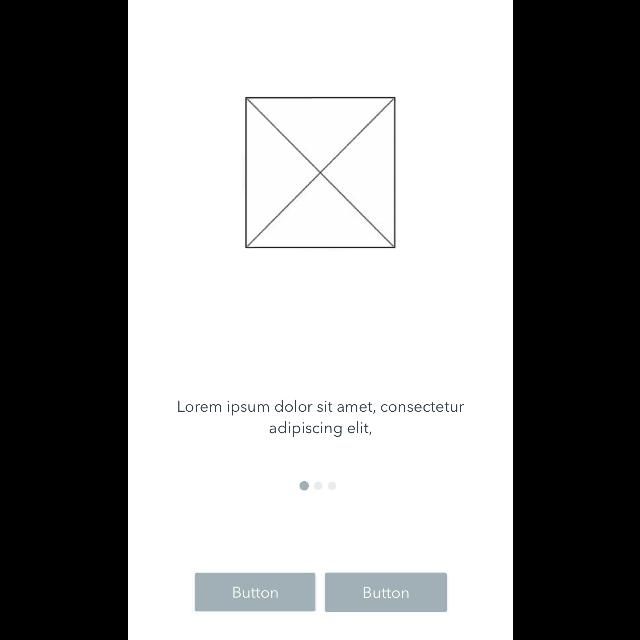image: (244, 96, 396, 250)
pageindicator: (298, 481, 336, 491)
text: (177, 399, 463, 436)
textbutton: (324, 572, 446, 612), (193, 572, 314, 612)
